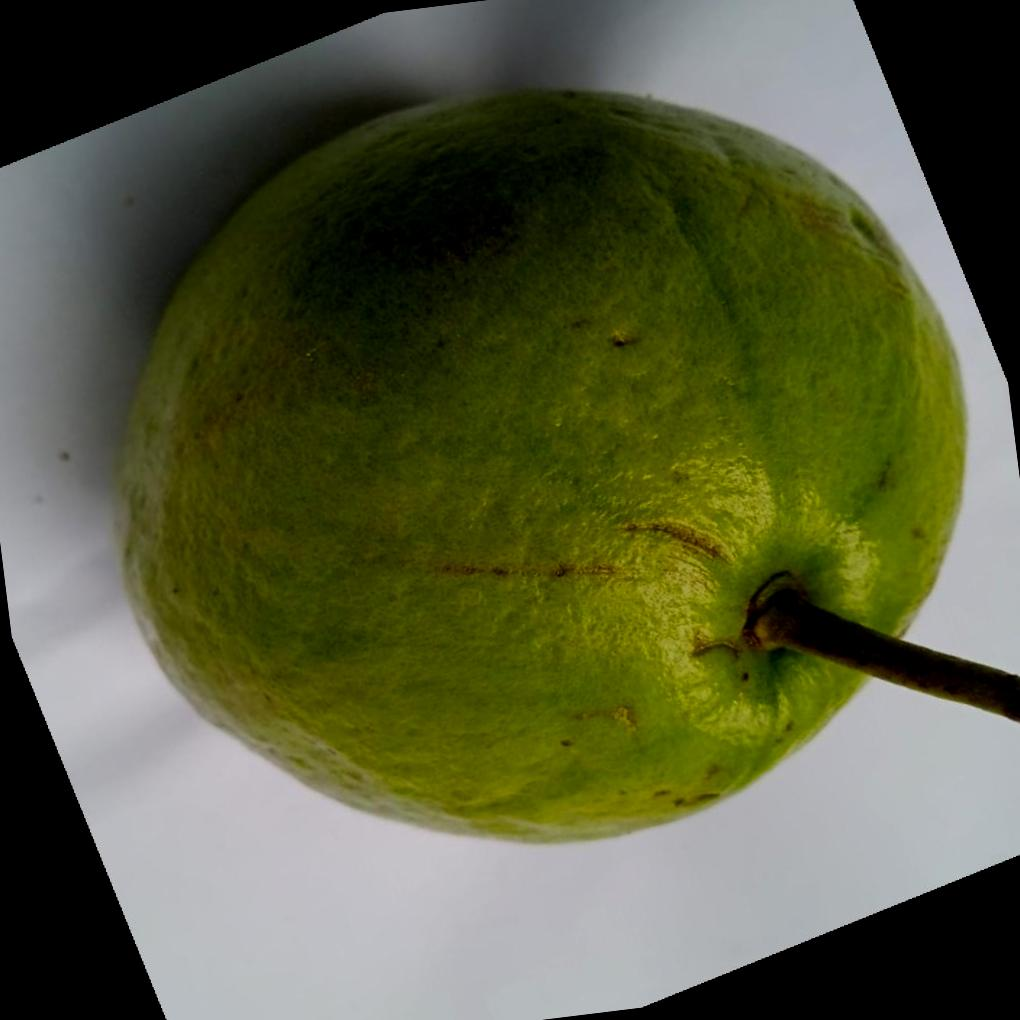FreshGuava: (116, 86, 971, 847)
